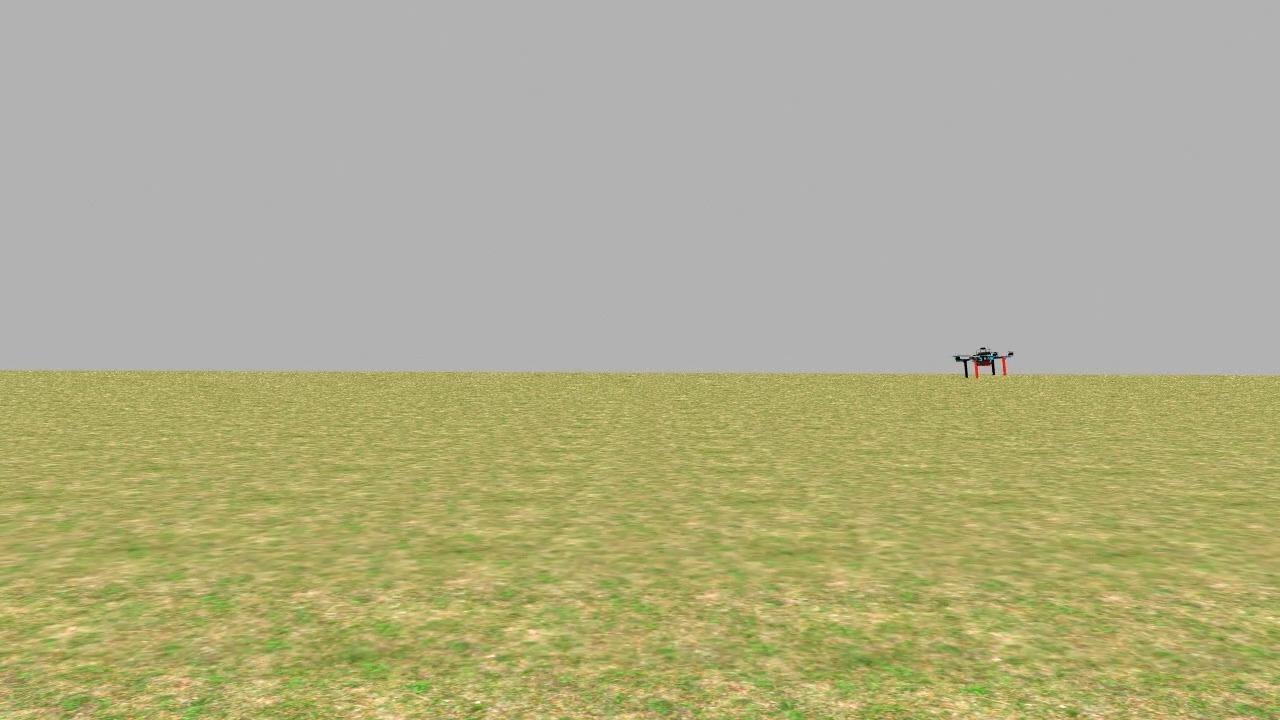UAV: (946, 333, 1028, 387)
